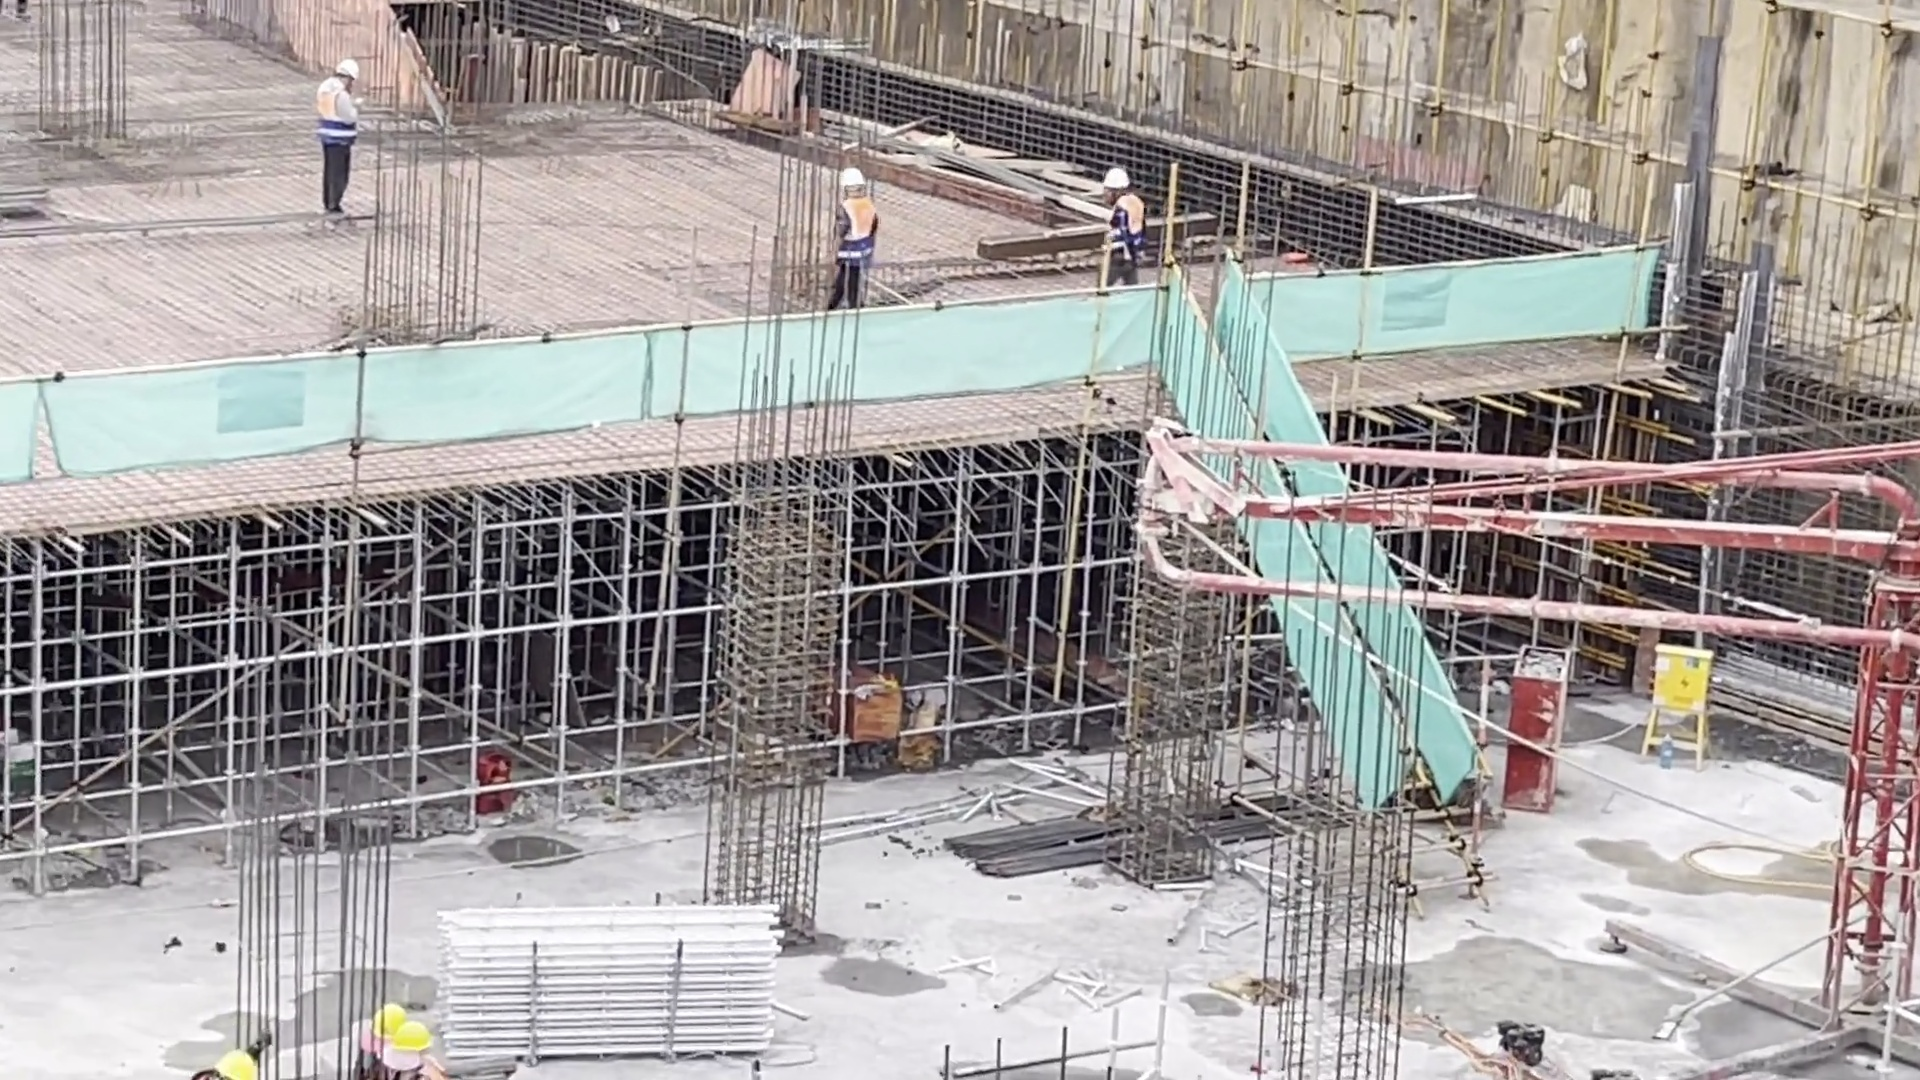helmet: (212, 1045, 276, 1080), (367, 1001, 413, 1045), (401, 1021, 437, 1063), (837, 165, 874, 192), (333, 56, 365, 85), (1103, 165, 1136, 191)
person: (828, 172, 882, 314), (319, 55, 362, 222), (1101, 162, 1153, 294)
vest: (319, 86, 369, 150), (832, 203, 878, 263), (1105, 204, 1149, 264)
